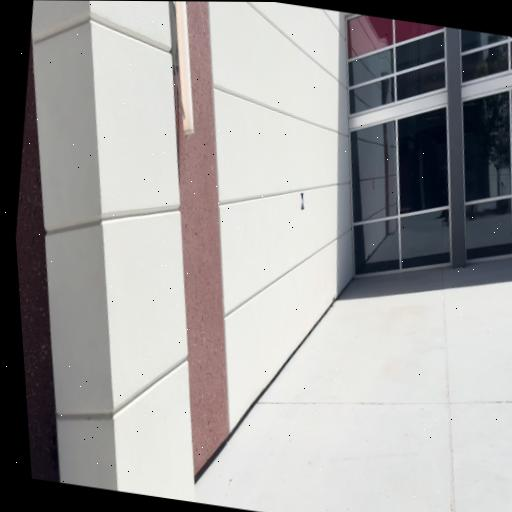target4: (300, 193, 305, 210)
